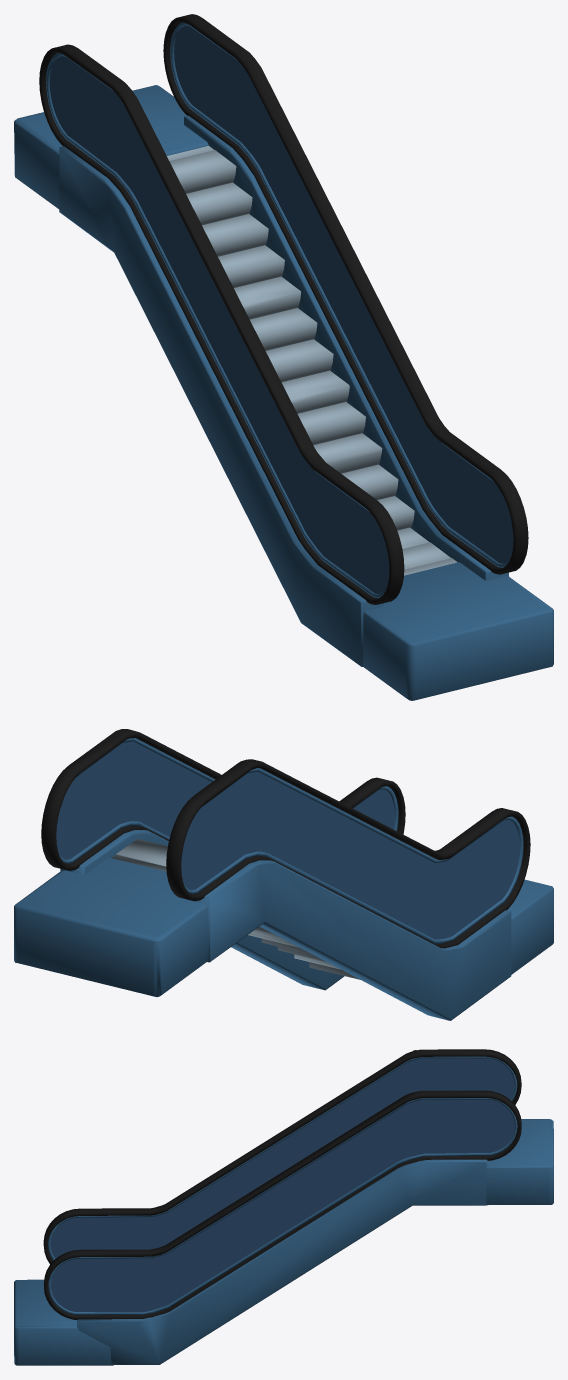
Rendered from escalator.zfix-v3.lod0.glb.
3 views of the same model, one above another, from view 1: azimuth 30°, elevation 25°; view 2: azimuth 150°, elevation 25°; view 3: azimuth 270°, elevation 25° (orthographic). The views are drawn at different scales.
Parts seen in each view (by area): view 1: Object_31, Object_10, Object_49; view 2: Object_10, Object_31, Object_49; view 3: Object_31, Object_10, Object_49.
Boxes of the visible parts, <box> form: Object_31: <box>49,25,513,593</box>; Object_10: <box>14,22,553,700</box>; Object_49: <box>39,14,528,604</box>; Object_10: <box>14,738,553,1020</box>; Object_31: <box>56,741,519,979</box>; Object_49: <box>41,729,530,948</box>; Object_31: <box>50,1058,514,1312</box>; Object_10: <box>14,1056,553,1365</box>; Object_49: <box>43,1049,521,1319</box>.
Bounding box in the file's own units: 2.83 × 7.2 × 13.02.
